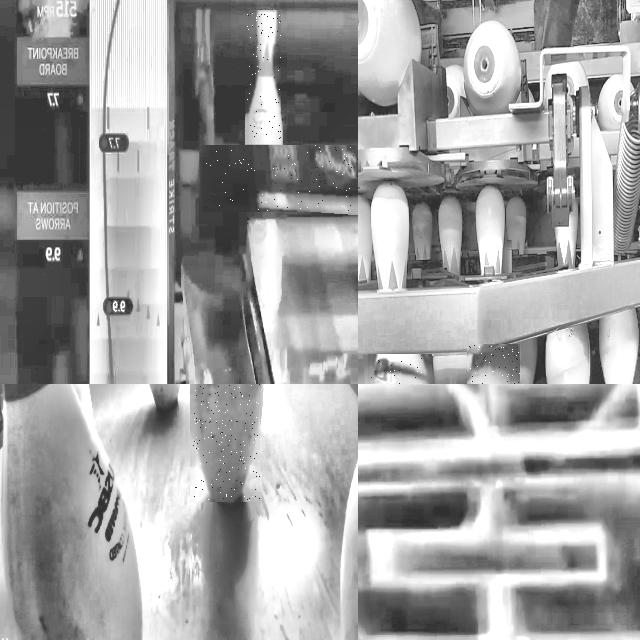bowling-pins: (2, 384, 142, 640), (193, 384, 259, 502), (247, 10, 281, 148), (370, 184, 408, 291), (600, 309, 639, 384), (545, 323, 590, 384), (476, 186, 505, 273), (469, 345, 519, 384), (358, 195, 371, 281)
sweep board: (204, 145, 358, 212)
